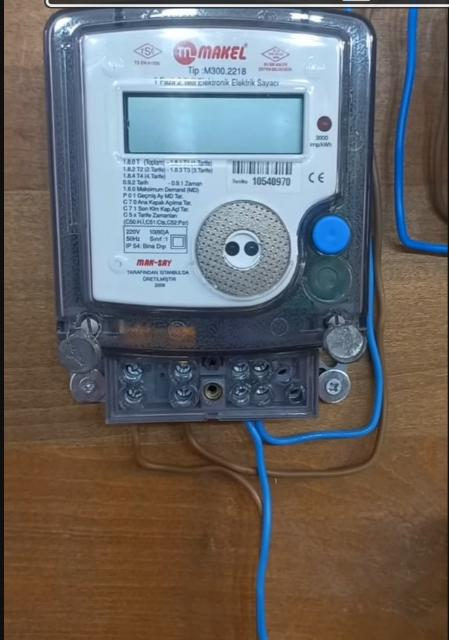electric-meter-detection: (45, 6, 384, 441)
